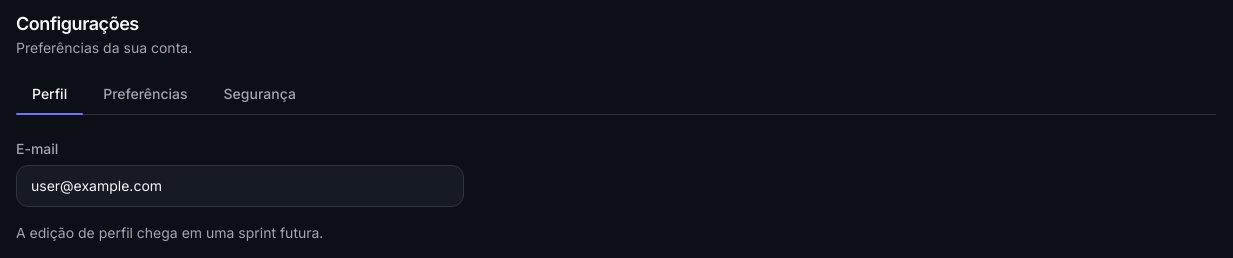
Test: SettingsPage › switches to the security tab
Click the tab "Segurança".
click(260, 94)  # box [208,74,312,114]
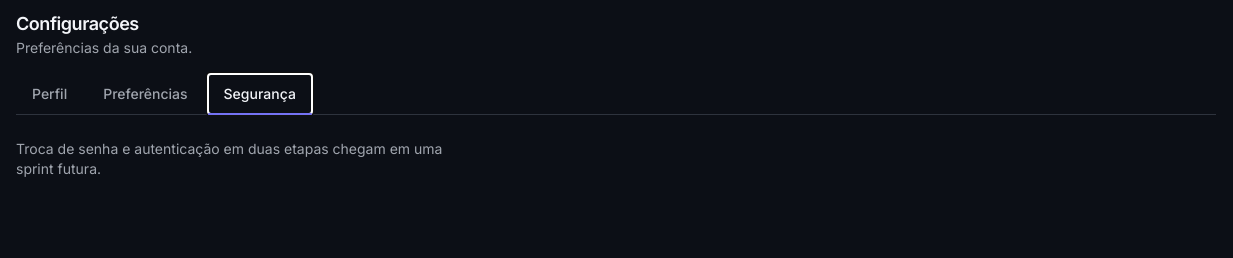
Expected: the text "Troca de senha e autenticação em duas etapas" is shown, [16,140,442,177]
